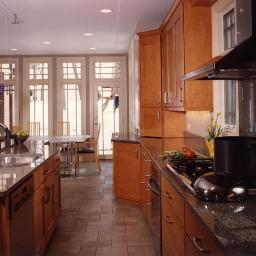Electrodomestico: (6, 173, 35, 255), (149, 162, 161, 254)
Lavaplatos: (1, 123, 41, 170)
